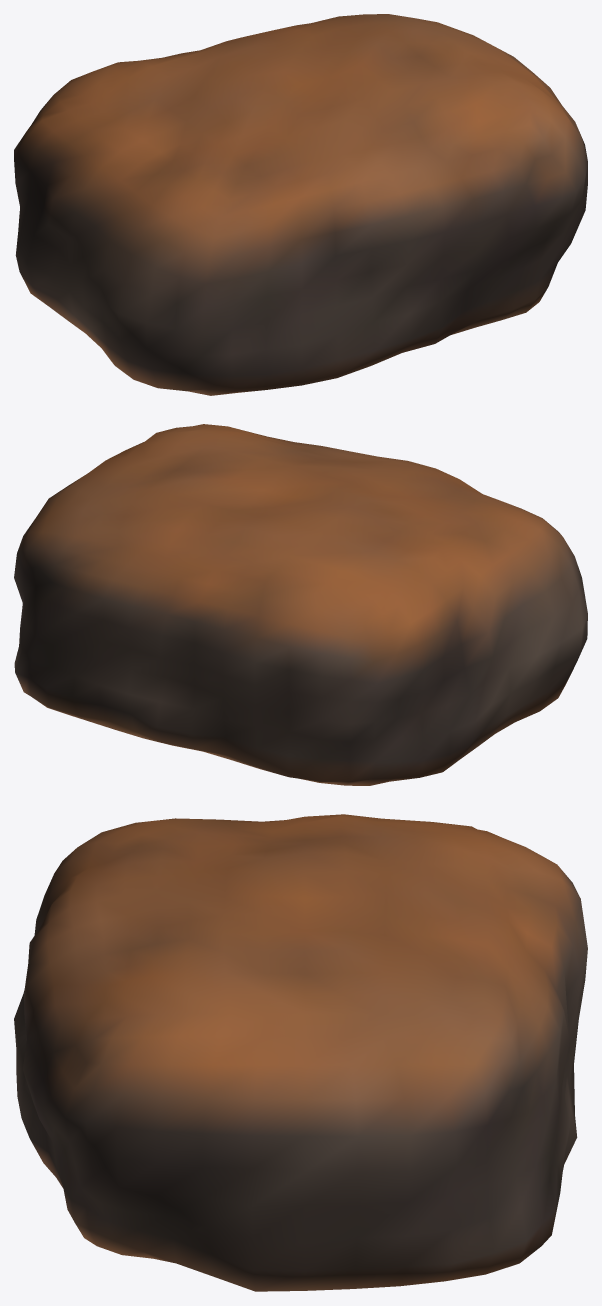
The model's file is chimp.glb.
The picture shows the model from 3 angles, top to bottom: view 1: azimuth 30°, elevation 25°; view 2: azimuth 150°, elevation 25°; view 3: azimuth 270°, elevation 25°; orthographic projection. The views are drawn at different scales.
Visible parts, largest first — view 1: rock-chimp; view 2: rock-chimp; view 3: rock-chimp.
Part boxes in pixels (x1,y1,x2,y2): rock-chimp: [14, 14, 587, 395]; rock-chimp: [14, 424, 587, 785]; rock-chimp: [14, 814, 587, 1291].
Size of the model in its own units: 0.75 by 0.3 by 0.6.
